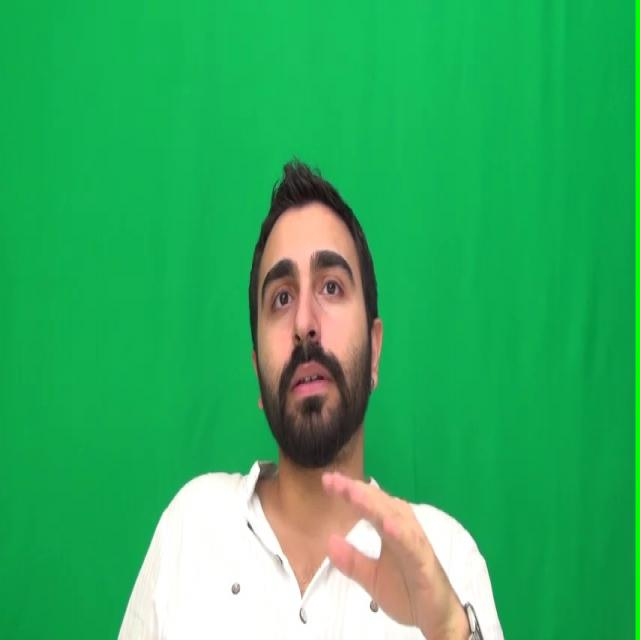Engaged: (259, 204, 365, 448)
